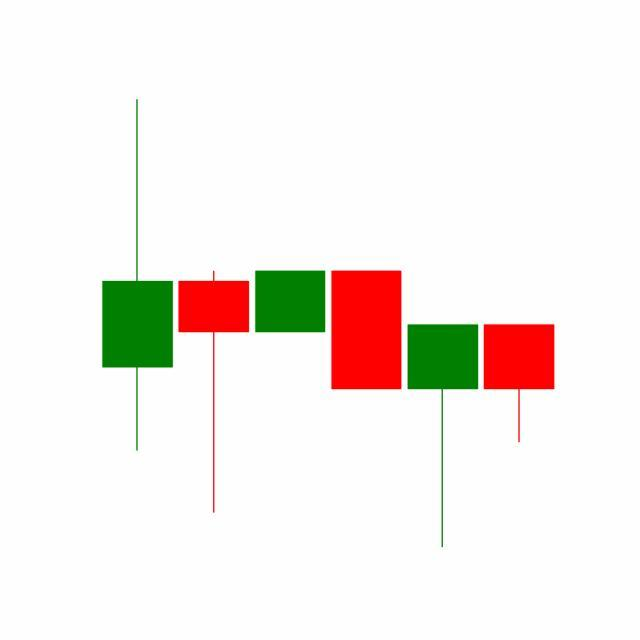Hanging Man: (404, 322, 482, 550)
